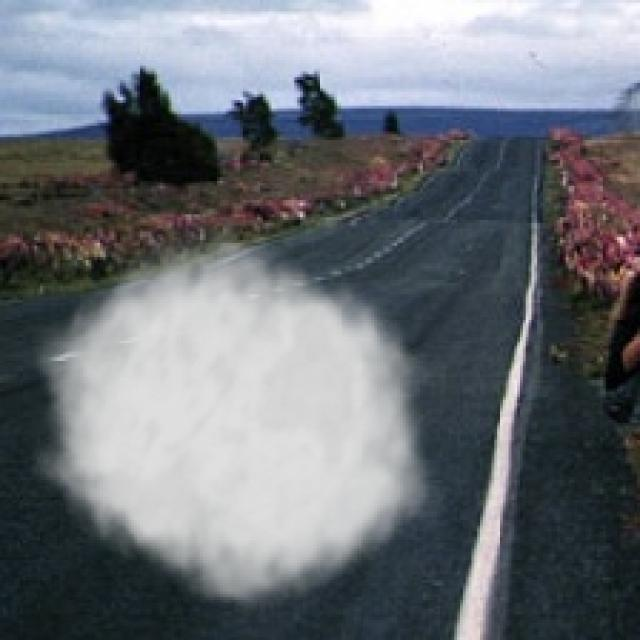smoke: (31, 220, 446, 617)
